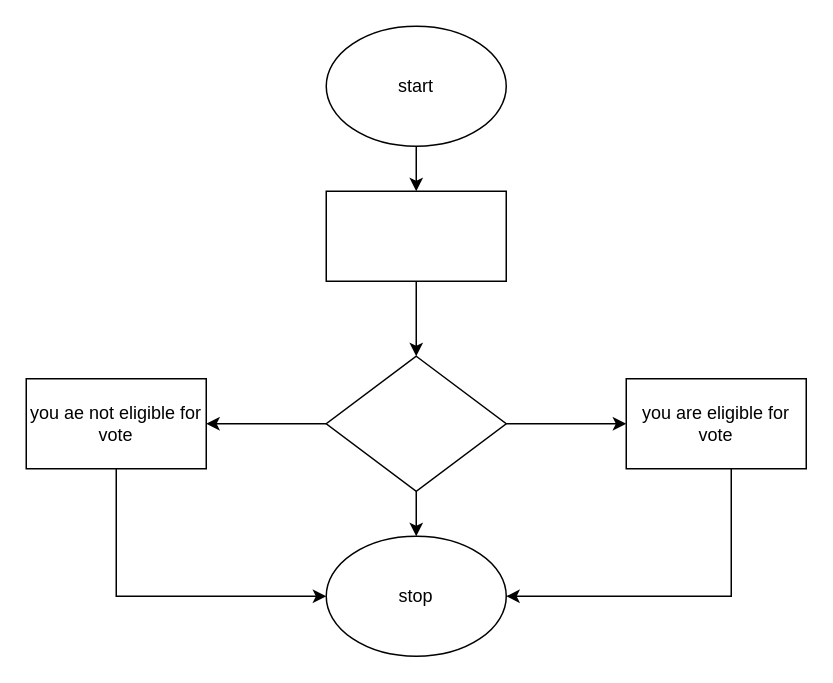
The diagram is 833 pixels wide and 683 high, and some of its shapes have lost their labels. Here are the shapes that lost their labels. From the top down, the centre of each, then its label:
point (415, 235): age = 12
point (415, 423): if age >=18
